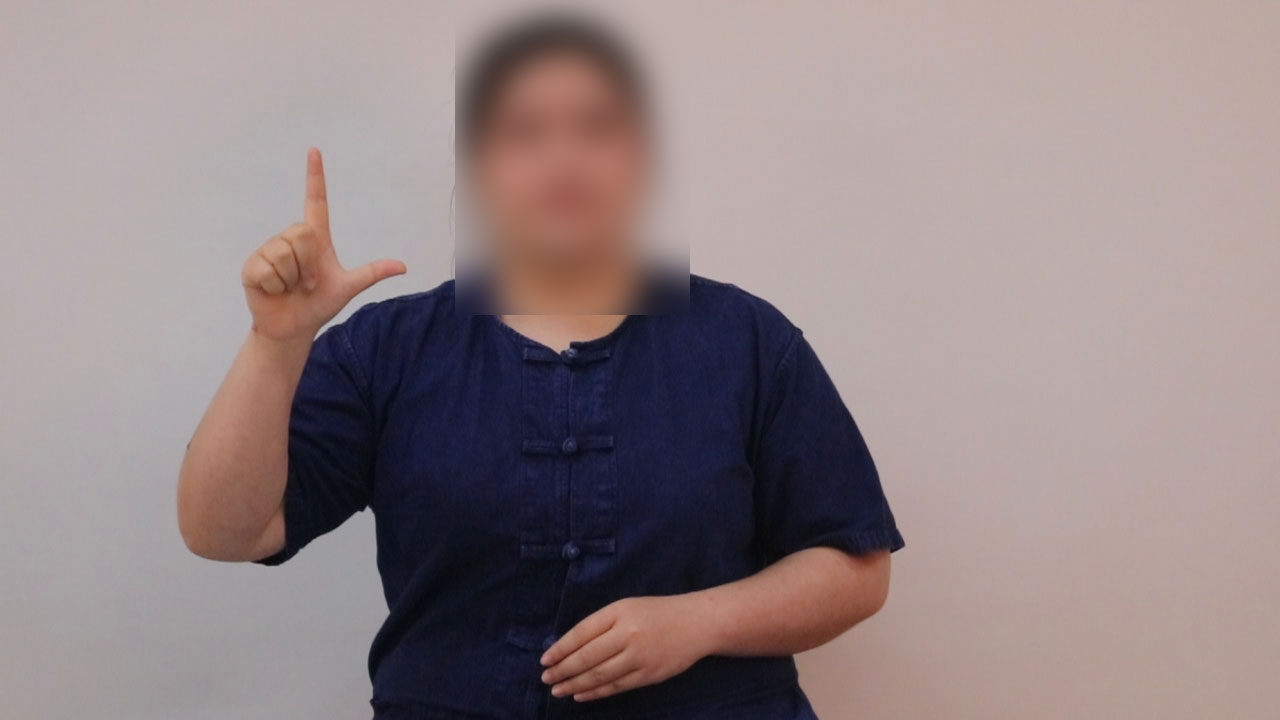lor: (221, 138, 440, 360)
